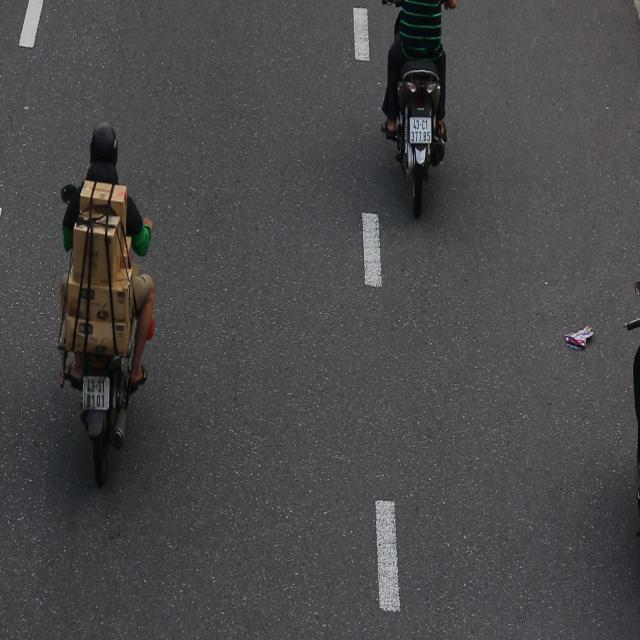motorbike: (51, 107, 157, 491)
